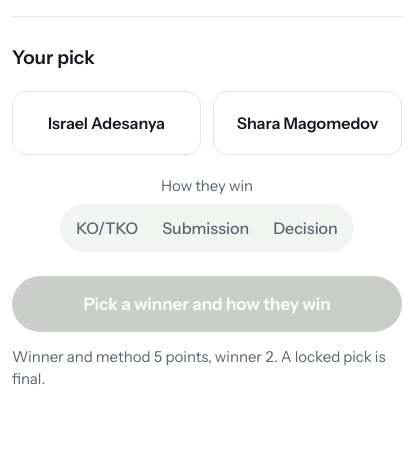
Test case: submit failures › keeps the choice on a network error, then saves on a second try
The width and height of the screenshot is (414, 463).
Expected: the element named "Pick a winner" is shown, left=12, top=91, right=402, bottom=155
Click the button "Shara Magomedov" at (308, 123), box left=213, top=91, right=402, bottom=155
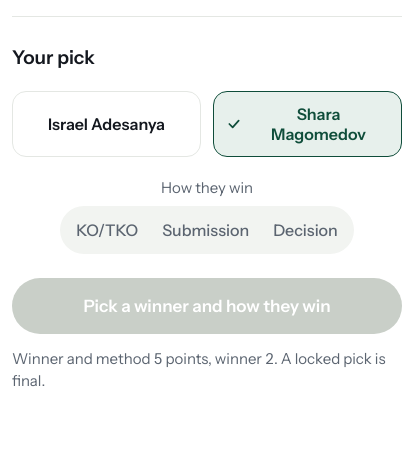
Click the button "Decision" at (305, 230), box left=261, top=210, right=350, bottom=250
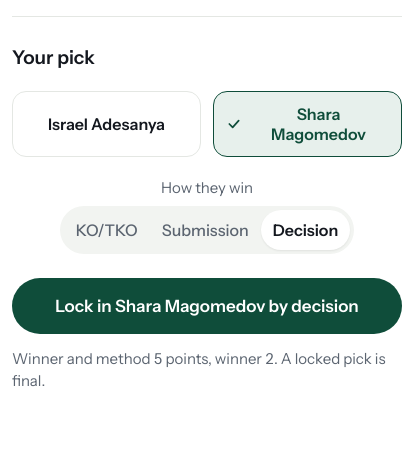
Click the button "Lock in Shara Magomedov by decision" at (207, 306), box left=12, top=278, right=402, bottom=334
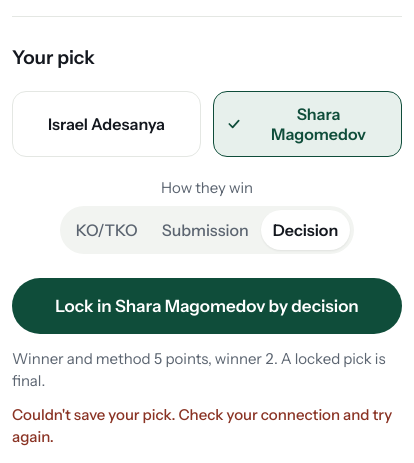
Expected: the text "Locked." is not shown
Expected: the message reads "Couldn't save your pick. Check your connection and try again.", left=12, top=405, right=392, bottom=446
Click the button "Lock in Shara Magomedov by decision" at (207, 306), box left=12, top=278, right=402, bottom=334
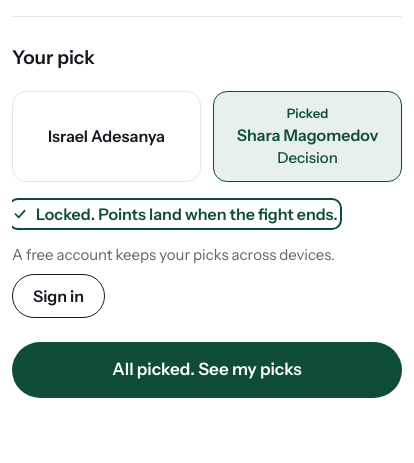
Expected: the text "Locked. Points land when the fight ends." is shown, left=36, top=202, right=338, bottom=226
